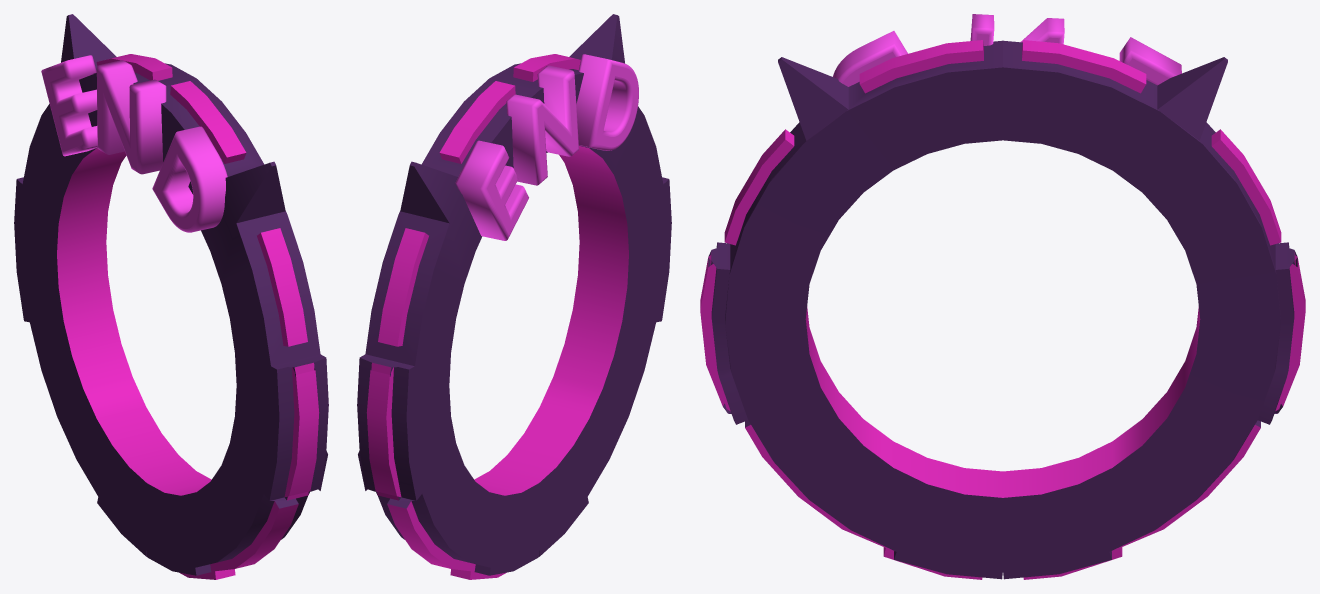
The model's file is arch-end-01.glb.
The picture shows the model from 3 angles, left to right: view 1: azimuth 30°, elevation 25°; view 2: azimuth 150°, elevation 25°; view 3: azimuth 270°, elevation 25°; orthographic projection. The views are drawn at different scales.
Parts seen in each view (by area): view 1: arch-start-finish, end; view 2: arch-start-finish, end; view 3: arch-start-finish, end.
Part boxes in pixels (left/top/right/bottom): arch-start-finish: left=14, top=14, right=328, bottom=579; end: left=41, top=55, right=227, bottom=232; arch-start-finish: left=357, top=14, right=671, bottom=579; end: left=455, top=54, right=638, bottom=240; arch-start-finish: left=700, top=40, right=1305, bottom=579; end: left=833, top=14, right=1181, bottom=86.
Bounding box in the file's own units: 2.36 × 13.93 × 14.24.
